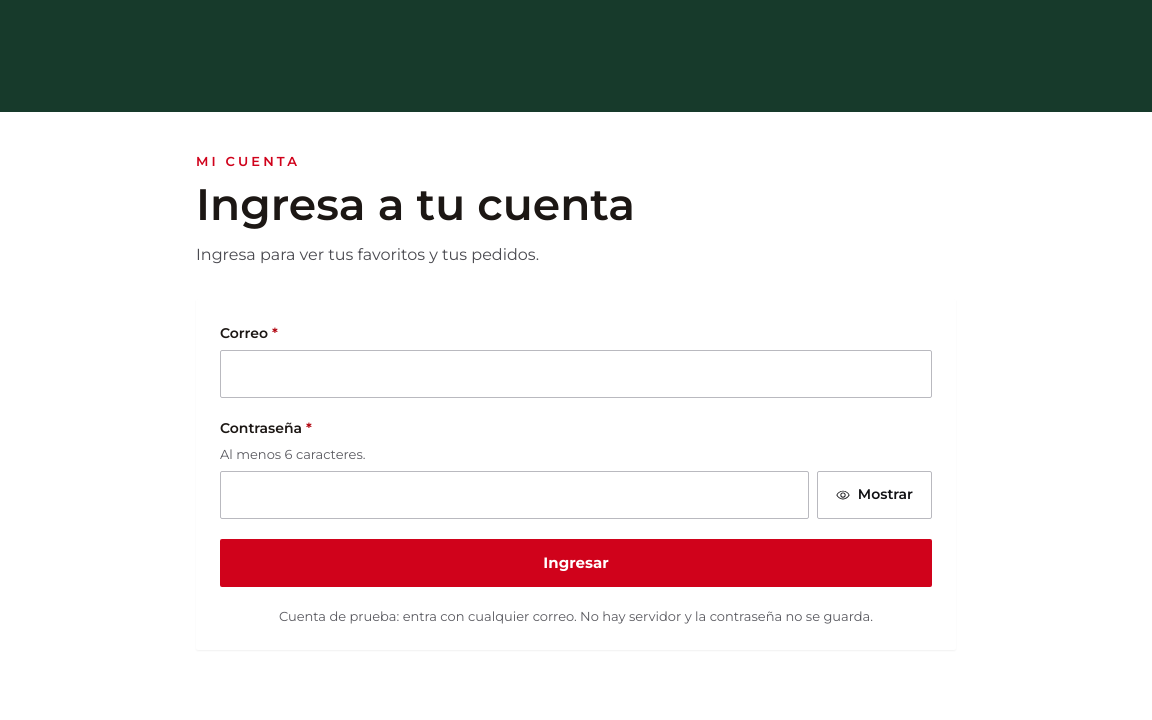
CuentaPage › muestra u oculta la contraseña
The width and height of the screenshot is (1152, 720).
Click the button with aria-label "Mostrar contraseña" at (874, 495), box [817, 471, 932, 519]
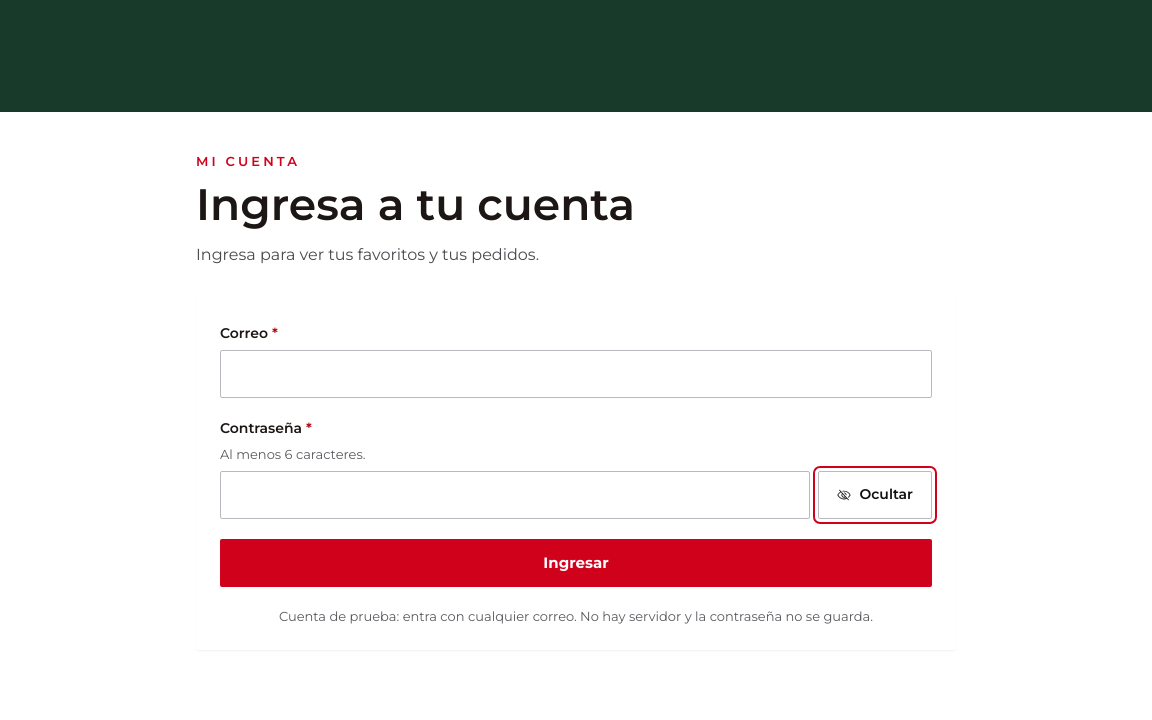
Check: the button with aria-label "Ocultar contraseña" is shown, box [818, 471, 932, 519]
